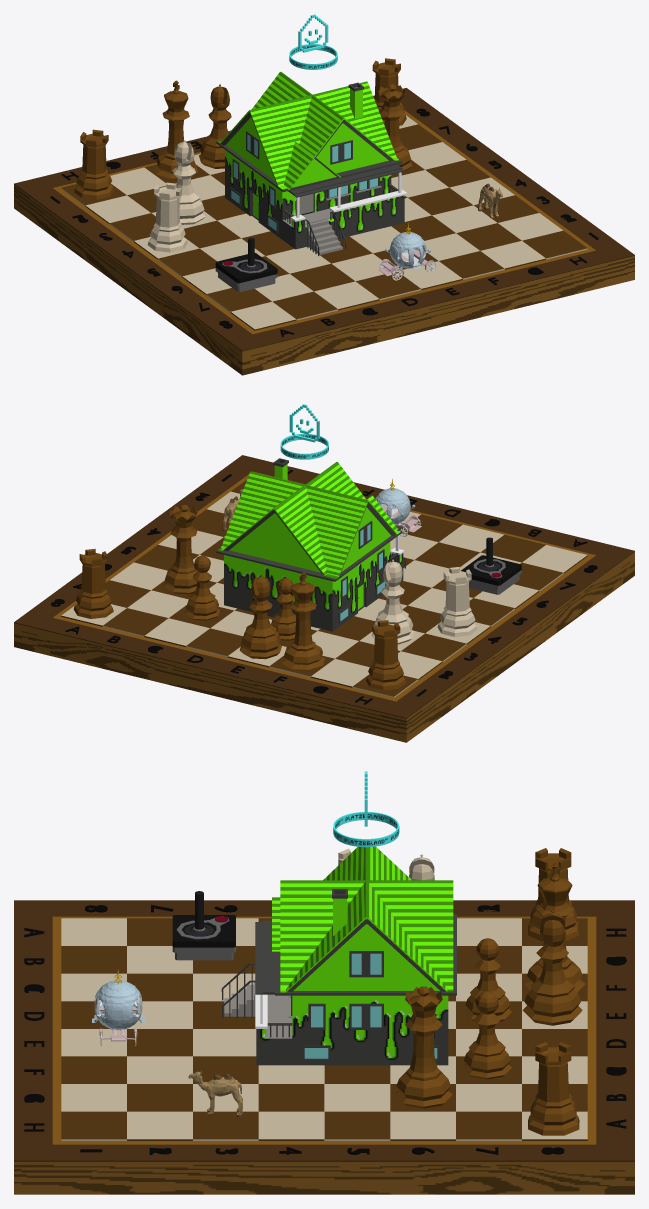
3 views of the same model, one above another, from view 1: azimuth 30°, elevation 25°; view 2: azimuth 150°, elevation 25°; view 3: azimuth 270°, elevation 25° (orthographic). The views are drawn at different scales.
Parts seen in each view (by area): view 1: Cube.002, Cube.754, OBJRANDOM_JOYSTICK, VEHICLES_FANTASY_CARRIAGE, TYPE_PREMIUM, ANIMAL_CAMELLO; view 2: Cube.002, Cube.754, OBJRANDOM_JOYSTICK, VEHICLES_FANTASY_CARRIAGE, TYPE_PREMIUM; view 3: Cube.002, Cube.754, OBJRANDOM_JOYSTICK, VEHICLES_FANTASY_CARRIAGE, TYPE_PREMIUM, ANIMAL_CAMELLO.
Boxes of the visible parts, <box> form: Cube.002: <box>14,58,634,375</box>; Cube.754: <box>216,72,407,256</box>; OBJRANDOM_JOYSTICK: <box>215,237,277,292</box>; VEHICLES_FANTASY_CARRIAGE: <box>379,223,436,280</box>; TYPE_PREMIUM: <box>289,14,337,69</box>; ANIMAL_CAMELLO: <box>478,183,502,218</box>; Cube.002: <box>14,455,634,742</box>; Cube.754: <box>216,458,405,631</box>; OBJRANDOM_JOYSTICK: <box>461,537,521,594</box>; VEHICLES_FANTASY_CARRIAGE: <box>375,479,421,536</box>; TYPE_PREMIUM: <box>280,404,328,459</box>; Cube.002: <box>14,848,634,1194</box>; Cube.754: <box>221,846,456,1065</box>; OBJRANDOM_JOYSTICK: <box>172,891,235,960</box>; VEHICLES_FANTASY_CARRIAGE: <box>92,969,144,1046</box>; TYPE_PREMIUM: <box>333,771,399,847</box>; ANIMAL_CAMELLO: <box>188,1070,242,1116</box>.
Size of the model in its own units: 3981 by 2330 by 4012.
Materials: 37 (4 with a texture image).
